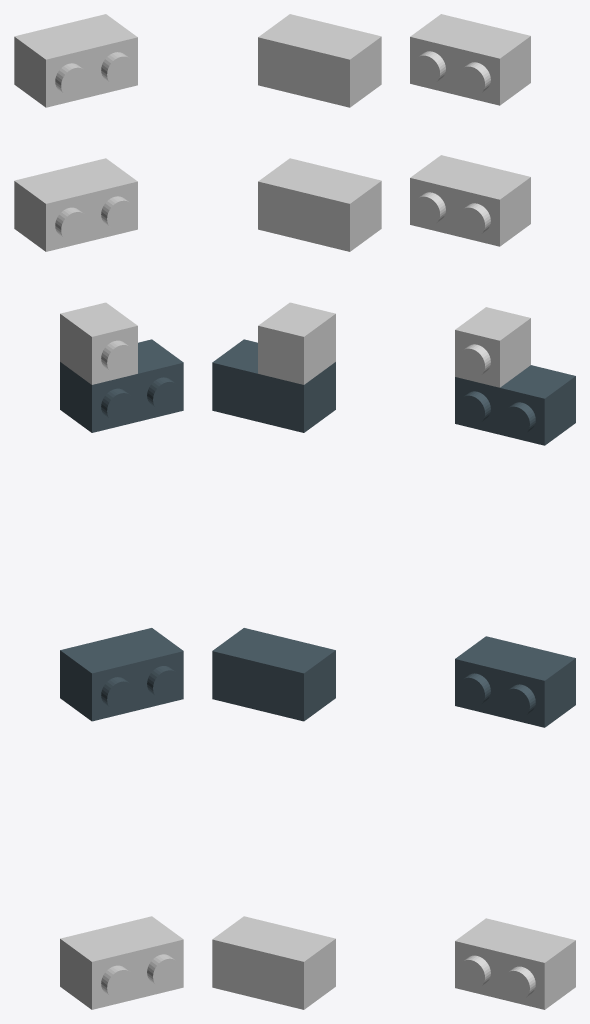
Rendered from current.glb.
The picture shows the model from 3 angles, left to right: view 1: azimuth 30°, elevation 25°; view 2: azimuth 150°, elevation 25°; view 3: azimuth 330°, elevation 25°; orthographic projection. The views are drawn at different scales.
Visible parts, largest first — view 1: world; view 2: world; view 3: world.
Boxes of the visible parts, x1,y1,x2,y2 form: world: (14, 14, 183, 1009); world: (212, 14, 381, 1009); world: (410, 14, 575, 1009).
Size of the model in its own units: 24 by 160 by 11.4.
